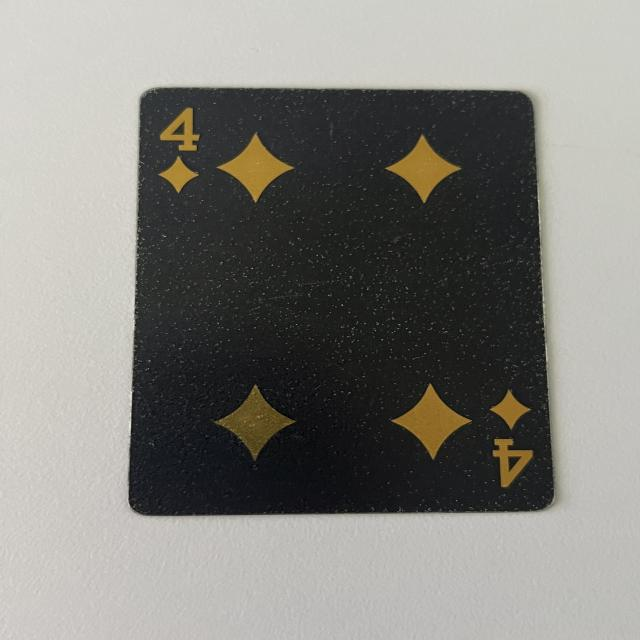4D: (476, 386, 537, 492), (156, 109, 207, 194)
